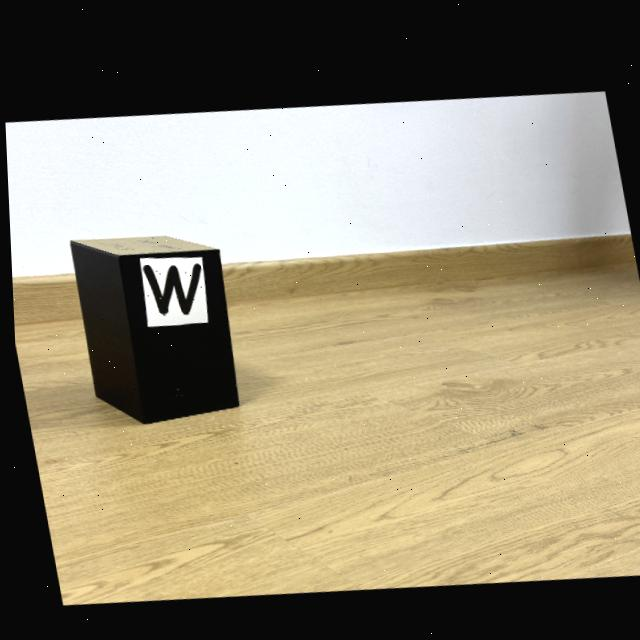W: (141, 261, 199, 312)
